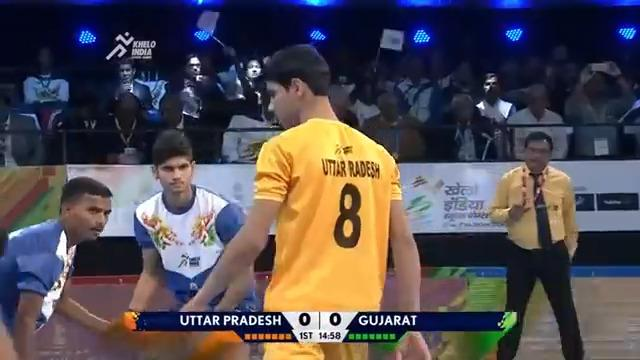Player: (126, 128, 260, 315), (0, 175, 118, 359)
Raider: (178, 43, 432, 358)
referee: (486, 131, 585, 359)
